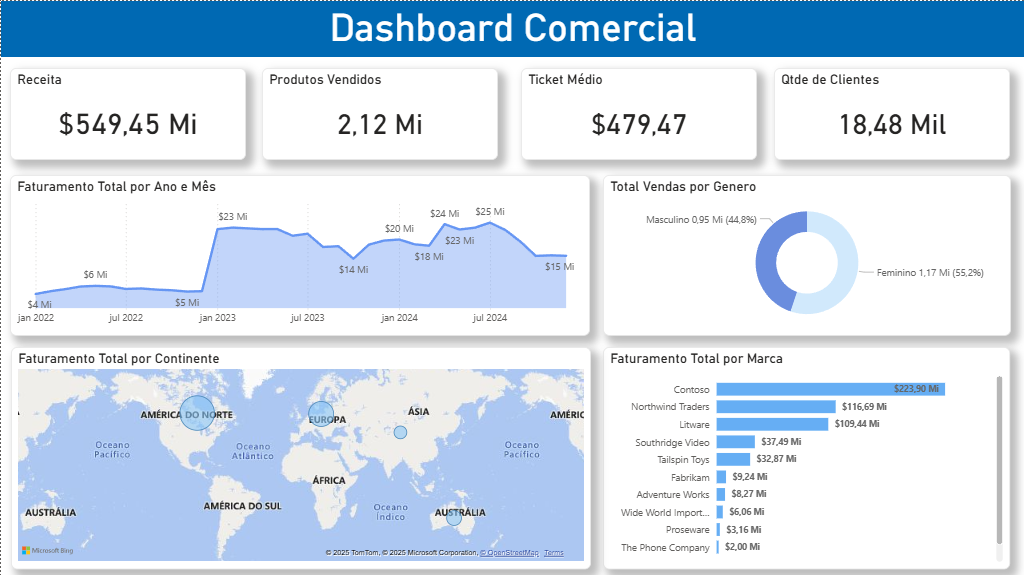

This screenshot's page, from the dashboard's own definition file:
{"tool":"powerbi","page":{"name":"Painel","canvas":[1280,720],"ordinal":0},"visuals":[{"type":"textbox","box":[0,0,1280.3,69.7],"z":0},{"type":"card","title":"Receita","fields":{"Values":["Base Vendas.Faturamento Total"]},"box":[11,83.2,294.7,114.9],"z":1000},{"type":"card","title":"Produtos Vendidos","fields":{"Values":["Base Vendas.Total Vendas"]},"box":[326.5,83.2,294.7,114.9],"z":2000},{"type":"card","title":"Ticket Médio","fields":{"Values":["Base Vendas.Ticket Médio"]},"box":[650.5,83.2,294.7,114.9],"z":3000},{"type":"card","title":"Qtde de Clientes","fields":{"Values":["Base Vendas.Qtd Clientes"]},"box":[966,83.2,294.7,114.9],"z":4000},{"type":"areaChart","fields":{"Y":["Base Vendas.Faturamento Total"],"Category":["Base Vendas.Data Venda.Variation.Hierarquia de datas.Ano","Base Vendas.Data Venda.Variation.Hierarquia de datas.Mês"]},"box":[11,217.7,725.1,200.5],"z":5000},{"type":"donutChart","fields":{"Y":["Base Vendas.Total Vendas"],"Category":["Cadastro Clientes.Genero"]},"box":[752,217.7,509.9,200.5],"z":6000},{"type":"barChart","fields":{"Y":["Base Vendas.Faturamento Total"],"Category":["Cadastro Produtos.Marca"]},"box":[752,432.9,508.7,277.6],"z":7000},{"type":"map","fields":{"Category":["Cadastro Lojas.Continente"],"Size":["Base Vendas.Faturamento Total"]},"box":[12.2,432.9,725.1,277.6],"z":8000}]}

Visuals, with their boxes in screenshot pixels (x1, y1, x2, y2), scaled from the page's 1280x720 canvas onto the 1024x575 screenshot:
textbox: crop(0, 0, 1023, 56)
"Receita" card: crop(9, 66, 245, 158)
"Produtos Vendidos" card: crop(261, 66, 497, 158)
"Ticket Médio" card: crop(520, 66, 756, 158)
"Qtde de Clientes" card: crop(773, 66, 1009, 158)
areaChart - Base Vendas.Faturamento Total x Base Vendas.Data Venda.Variation.Hierarquia de datas.Ano: crop(9, 174, 589, 334)
donutChart - Base Vendas.Total Vendas x Cadastro Clientes.Genero: crop(602, 174, 1010, 334)
barChart - Base Vendas.Faturamento Total x Cadastro Produtos.Marca: crop(602, 346, 1009, 567)
map - Cadastro Lojas.Continente x Base Vendas.Faturamento Total: crop(10, 346, 590, 567)
